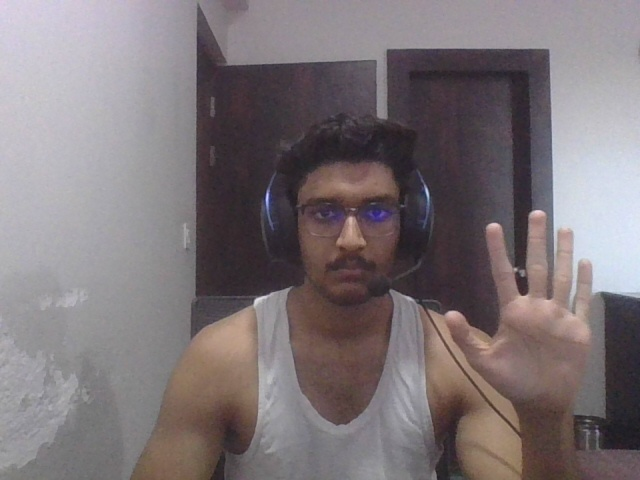Hello: (436, 202, 598, 414)
